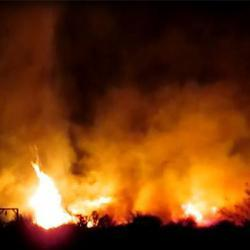fire: (26, 180, 69, 226), (186, 194, 217, 221), (72, 196, 109, 213)
smoke: (121, 97, 246, 173), (3, 39, 56, 149)
